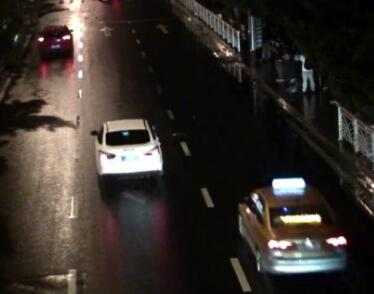car: (237, 179, 351, 282), (87, 120, 163, 181), (33, 27, 72, 57)
